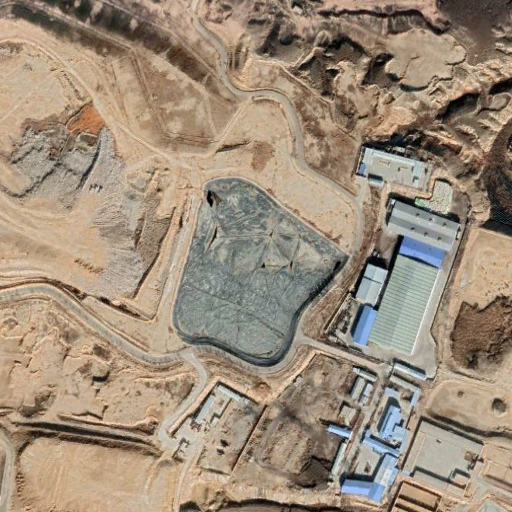lf: (174, 174, 347, 374)
